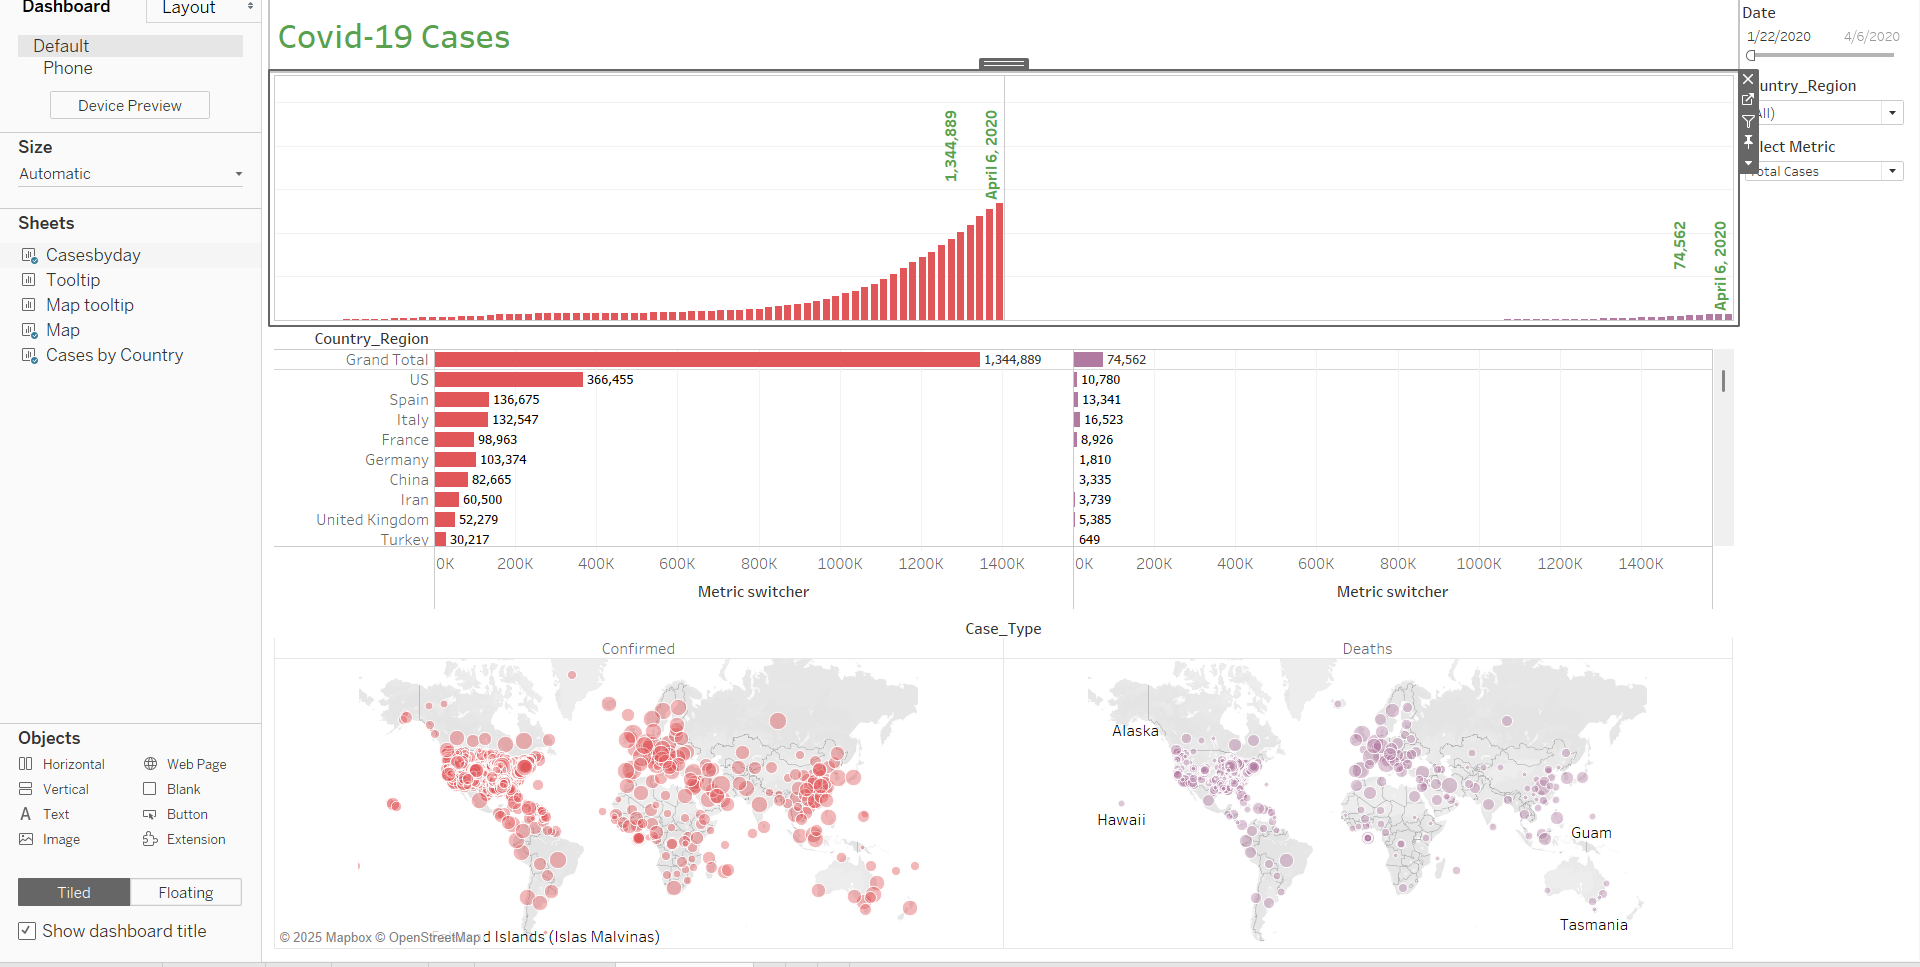

This screenshot's page, from the dashboard's own definition file:
{"tool":"tableau","page":{"name":"Covid 19 cases","canvas":[1000,1000],"units":"permille","ordinal":0},"visuals":[{"type":"title","box":[4.8,8.2,885.9,75.2]},{"type":"filter","title":"Casesbyday","param":"[federated.179fb1y0102c5s17lvej00dxp80e].[none:Date:qk]","box":[890.8,8.2,104.4,75.2]},{"type":"worksheet","title":"Casesbyday","mark":"Bar","rows":["Calculation_709879946413170688"],"cols":["Case_Type","Date"],"box":[4.8,83.4,885.9,261.6]},{"type":"filter","title":"Casesbyday","param":"[federated.179fb1y0102c5s17lvej00dxp80e].[none:Country_Region:nk]","box":[890.8,83.4,104.4,62.8]},{"type":"parameter","param":"[Parameters].[Parameter 1]","box":[890.8,146.2,104.4,57.7]},{"type":"worksheet","title":"Cases by Country","mark":"Automatic","rows":["Country_Region"],"cols":["Case_Type","Calculation_709879946413170688"],"box":[4.8,345,885.9,297.6]},{"type":"worksheet","title":"Map","mark":"Automatic","rows":["Lat"],"cols":["Case_Type","Long"],"box":[4.8,642.6,885.9,349.1]}]}

Visuals, with their boxes on the dashboard's canvas, which has no fixed pixel size, in thousandths of its width and height (x1, y1, x2, y2). These are canvas units, not pixel positions in the 1920x967 screenshot, which may show the page scaled, cropped or inside an application window:
title: [x1=5, y1=8, x2=891, y2=83]
"Casesbyday" filter: [x1=891, y1=8, x2=995, y2=83]
"Casesbyday" worksheet (Bar marks): [x1=5, y1=83, x2=891, y2=345]
"Casesbyday" filter: [x1=891, y1=83, x2=995, y2=146]
parameter: [x1=891, y1=146, x2=995, y2=204]
"Cases by Country" worksheet: [x1=5, y1=345, x2=891, y2=643]
"Map" worksheet: [x1=5, y1=643, x2=891, y2=992]
